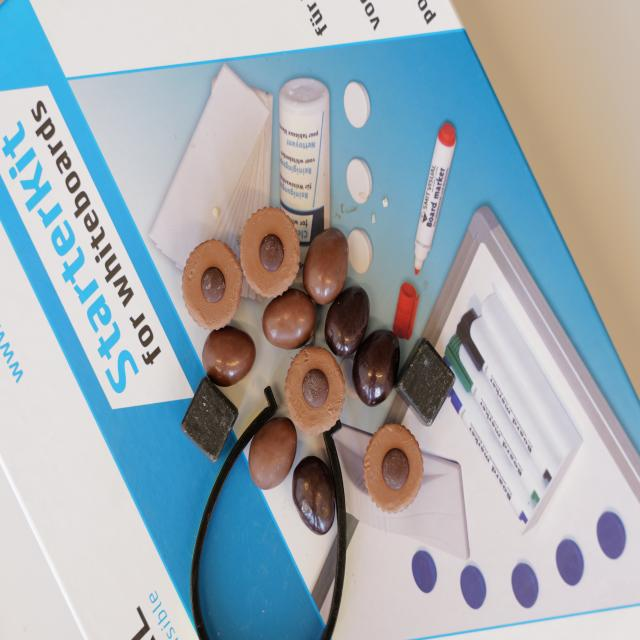Jelly_Black: (292, 455, 339, 539), (356, 326, 400, 404), (324, 286, 373, 356)
Jelly_Milk: (302, 222, 353, 300), (249, 409, 296, 493), (204, 326, 258, 389), (262, 297, 320, 343)
Noblesse: (283, 347, 350, 436), (183, 237, 242, 335), (243, 205, 300, 298), (367, 422, 423, 512)
